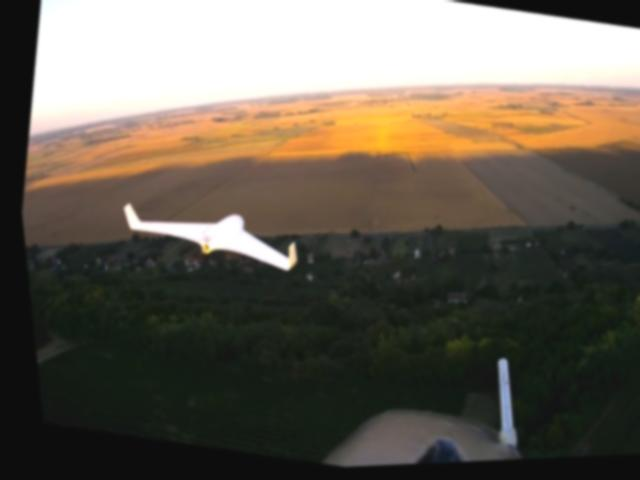plane: (109, 192, 299, 280)
